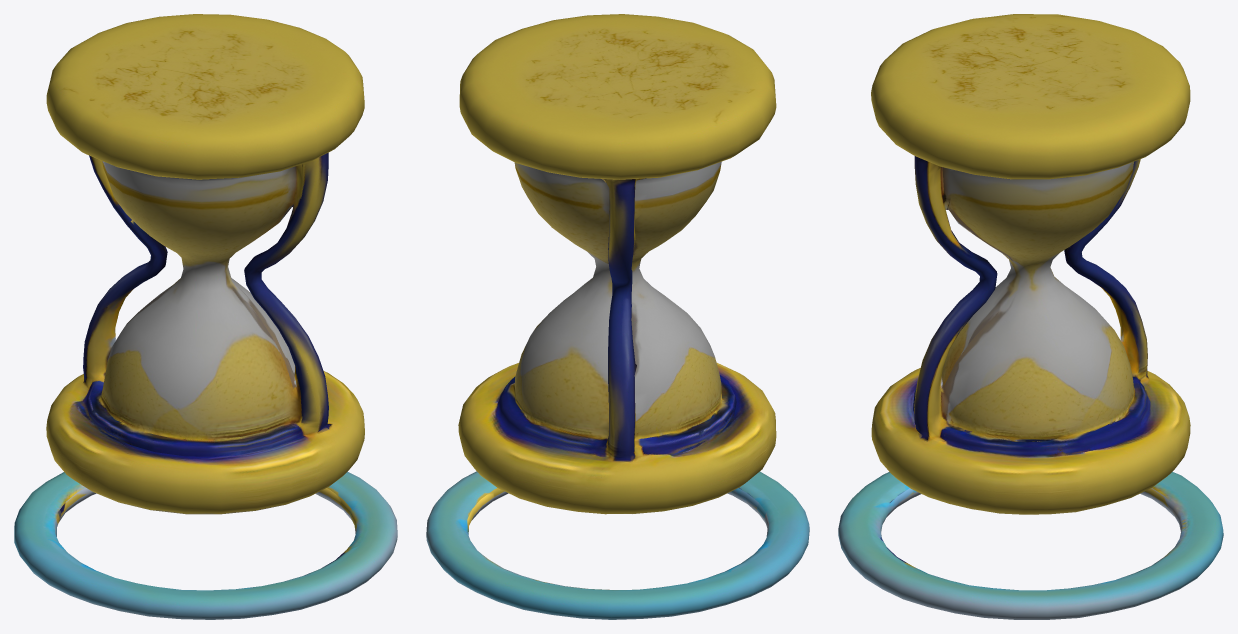
File: timelap.fbx
The picture shows the model from 3 angles, left to right: view 1: azimuth 30°, elevation 25°; view 2: azimuth 150°, elevation 25°; view 3: azimuth 270°, elevation 25°; orthographic projection.
Parts seen in each view (by area): view 1: tripo_node_d1d343ea; view 2: tripo_node_d1d343ea; view 3: tripo_node_d1d343ea.
Boxes of the visible parts, x1,y1,x2,y2 form: tripo_node_d1d343ea: (14, 14, 397, 619); tripo_node_d1d343ea: (426, 14, 809, 619); tripo_node_d1d343ea: (838, 14, 1223, 619).
Size of the model in its own units: 0.7382 by 0.9999 by 0.7408.
Materials: 1 (1 with a texture image).
